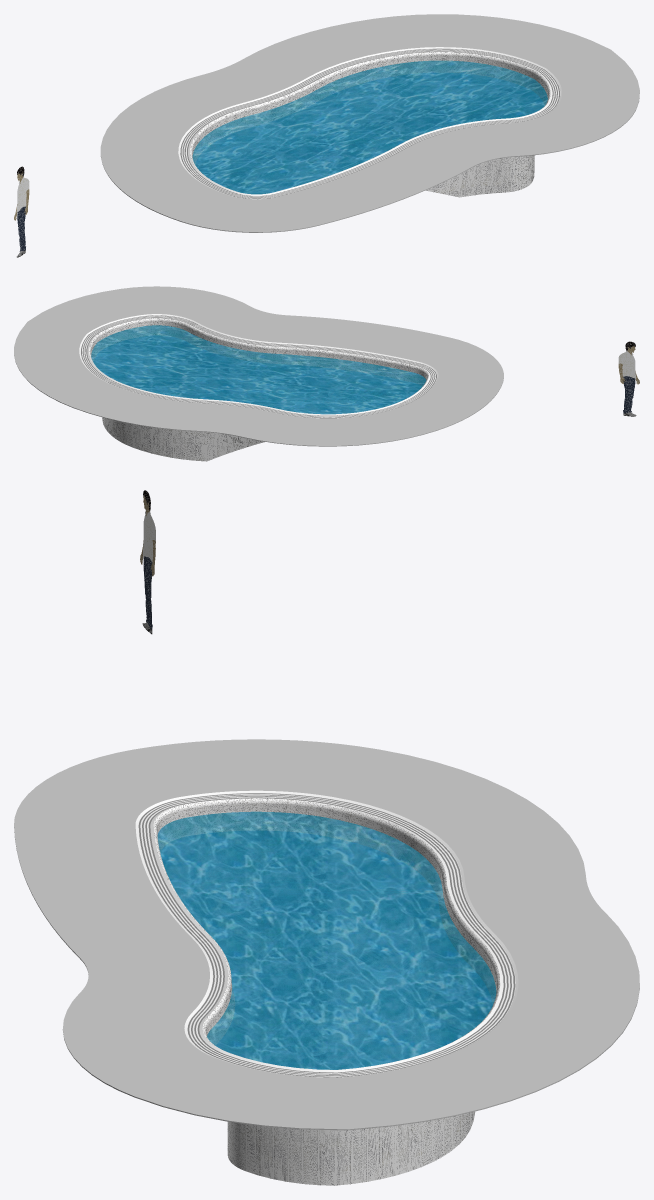
The model's file is Pool.dae.
3 renders of one model, top to bottom at view 1: azimuth 30°, elevation 25°; view 2: azimuth 150°, elevation 25°; view 3: azimuth 270°, elevation 25°, orthographic. The views are drawn at different scales.
Parts seen in each view (by area): view 1: SketchUp (×13); view 2: SketchUp (×13), Sang (×2); view 3: SketchUp (×13).
Part boxes in pixels (x1=…): SketchUp (×13): x1=100, y1=14, x2=639, y2=232; SketchUp (×13): x1=14, y1=286, x2=503, y2=461; Sang (×2): x1=618, y1=352, x2=635, y2=413; SketchUp (×13): x1=14, y1=739, x2=639, y2=1185.
Bounding box in the file's own units: 539 × 282 × 132.
